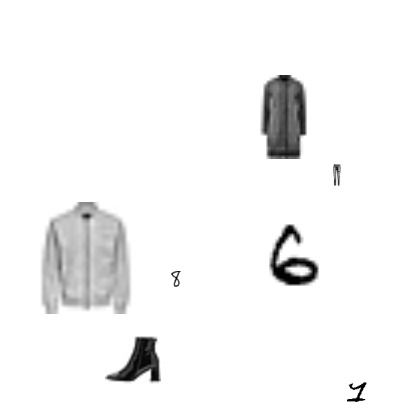1: (343, 378, 371, 406)
6: (249, 219, 333, 303)
8: (165, 267, 187, 289)
Ankle_boot: (105, 331, 161, 387)
Coat: (30, 202, 142, 314), (240, 75, 324, 159)
Trouser: (326, 164, 348, 186)
